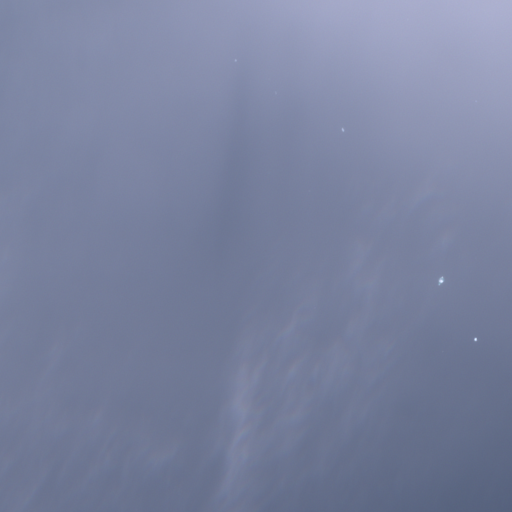Iceberg: (438, 276, 443, 285), (474, 337, 476, 341), (342, 128, 343, 131), (235, 59, 236, 61)
